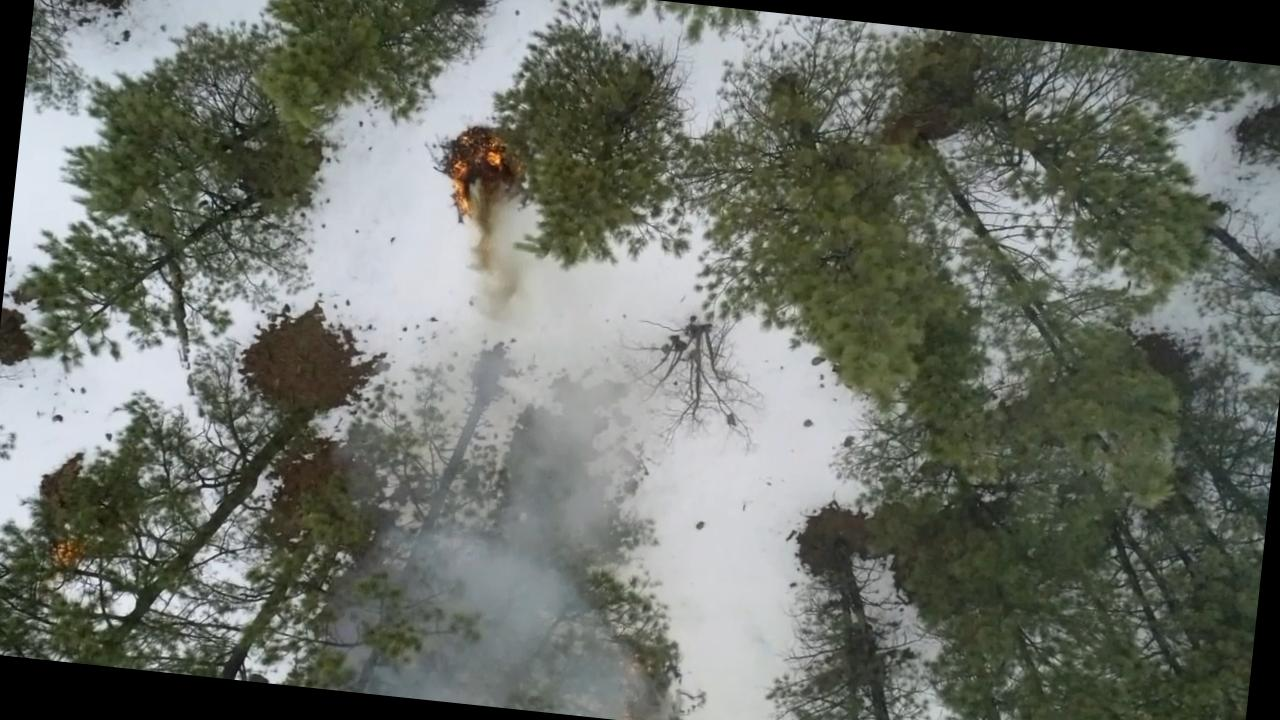fire: (442, 126, 514, 219)
smoke: (322, 434, 676, 720)
